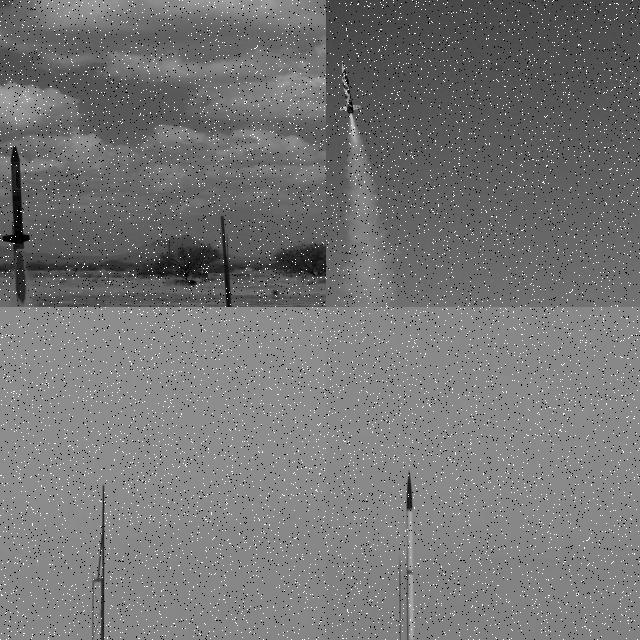Rocket: (399, 467, 423, 640), (2, 144, 32, 250), (338, 61, 362, 115), (224, 255, 234, 307)
